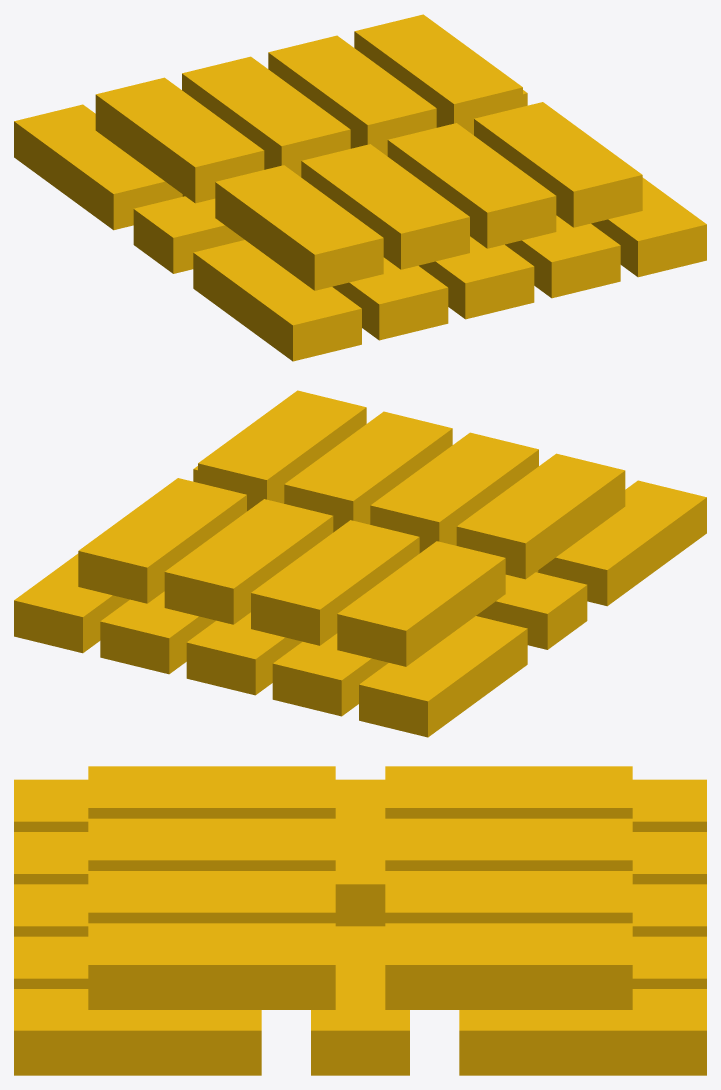
The model's file is gold level 1.obj.
3 renders of one model, top to bottom at view 1: azimuth 30°, elevation 25°; view 2: azimuth 150°, elevation 25°; view 3: azimuth 270°, elevation 25°, orthographic. The views are drawn at different scales.
Bounding box in the file's own units: 2.4 × 0.4 × 2.8.
Materials: 1 (1 with a texture image).
